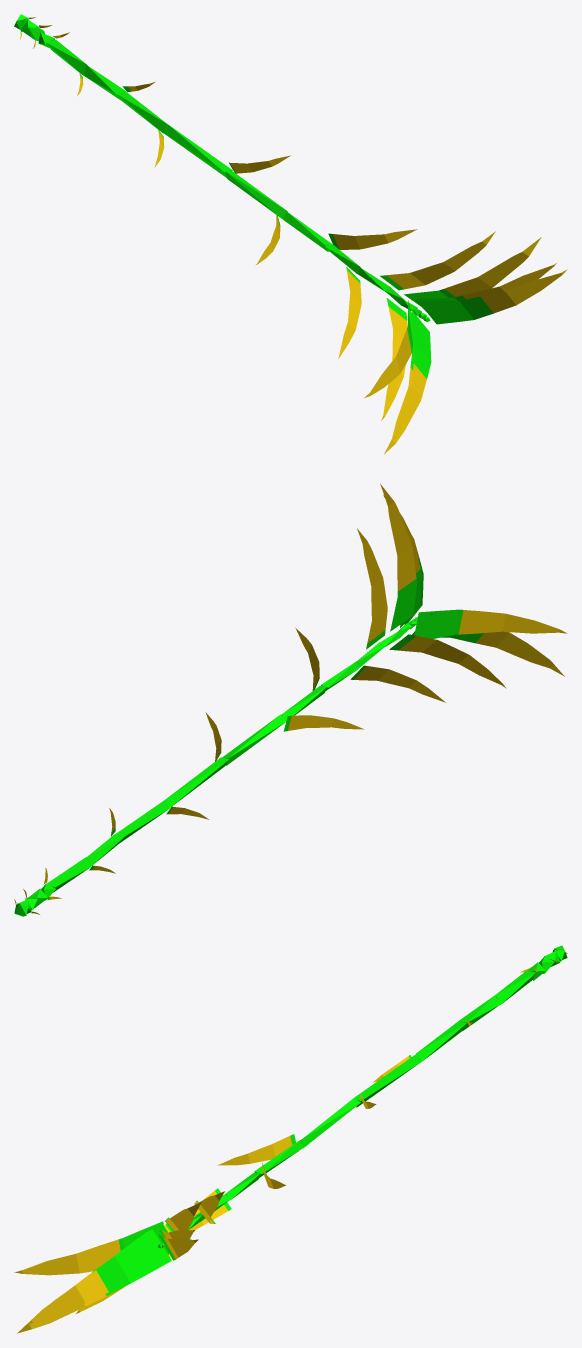
Rendered from usm_1_Beer_2018-09-26_2.obj.
The picture shows the model from 3 angles, top to bottom: view 1: azimuth 30°, elevation 25°; view 2: azimuth 150°, elevation 25°; view 3: azimuth 330°, elevation 25°; orthographic projection.
Visible parts, largest first — view 1: vid_10000028, vid_40, vid_10000032, vid_10000040, vid_10000030, vid_10000024, vid_42, vid_10000026, vid_10000034, vid_10000042, vid_19, vid_21 (+2 smaller); view 2: vid_10000034, vid_10000032, vid_10000030, vid_10000028, vid_34, vid_10000038, vid_10000026, vid_32, vid_10000022, vid_19, vid_21, vid_17; view 3: vid_42, vid_10000034, vid_10000042, vid_10000022, vid_19, vid_21, vid_17, vid_13, vid_10000038, vid_10000032.
Boxes of the visible parts, x1,y1,x2,y2 form: vid_10000028: (386, 231, 495, 289); vid_40: (418, 296, 493, 324); vid_10000032: (444, 237, 541, 296); vid_10000040: (480, 269, 567, 313); vid_10000030: (381, 306, 407, 420); vid_10000024: (332, 229, 416, 249); vid_42: (412, 310, 431, 378); vid_10000026: (338, 270, 361, 358); vid_10000034: (364, 329, 411, 397); vid_10000042: (393, 364, 426, 439); vid_19: (163, 124, 232, 177); vid_21: (225, 171, 287, 218); vid_10000034: (458, 610, 566, 634); vid_10000032: (380, 483, 416, 591); vid_10000030: (398, 636, 506, 688); vid_10000028: (357, 528, 387, 643); vid_34: (414, 609, 463, 638); vid_10000038: (476, 631, 564, 676); vid_10000026: (354, 666, 445, 702); vid_32: (390, 579, 417, 631); vid_10000022: (287, 715, 363, 730); vid_19: (165, 757, 228, 808); vid_21: (222, 714, 286, 765); vid_17: (115, 799, 169, 843); vid_42: (96, 1230, 168, 1291); vid_10000034: (14, 1239, 120, 1275); vid_10000042: (28, 1270, 108, 1323); vid_10000022: (218, 1136, 292, 1165); vid_19: (353, 1054, 420, 1107); vid_21: (300, 1098, 360, 1148); vid_17: (416, 1021, 466, 1062); vid_13: (495, 970, 535, 1004); vid_10000038: (17, 1272, 106, 1333); vid_10000032: (165, 1202, 201, 1230).
Bounding box in the file's own units: 68.86 × 55.4 × 279.
